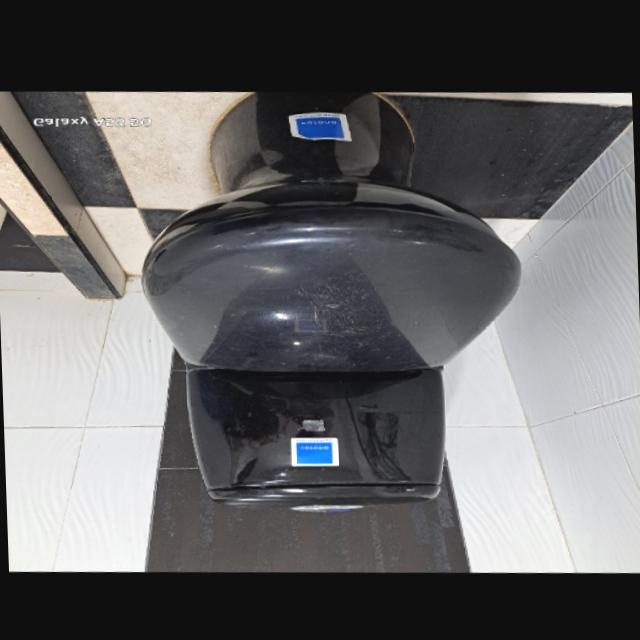toilet: (133, 77, 529, 522)
